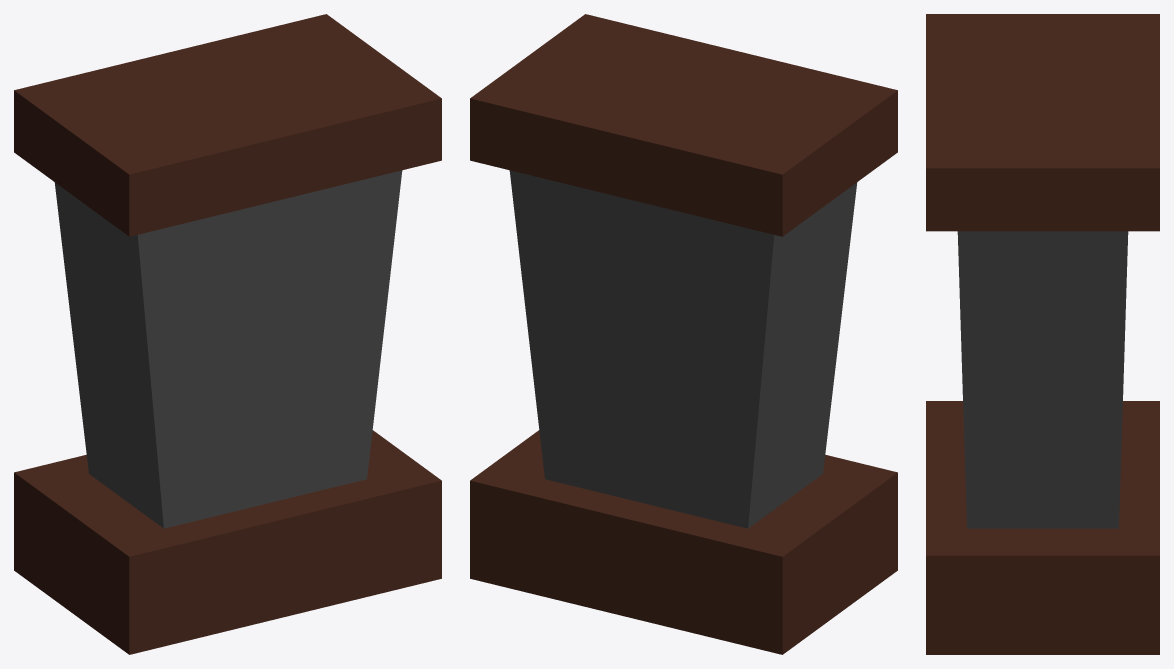
File: SM_Chimenea.fbx
3 views of the same model, side by side, from view 1: azimuth 30°, elevation 25°; view 2: azimuth 150°, elevation 25°; view 3: azimuth 270°, elevation 25° (orthographic).
Parts seen in each view (by area): view 1: SM_Chimenea; view 2: SM_Chimenea; view 3: SM_Chimenea.
Boxes of the visible parts, box(x1,y1,x2,y2) form: SM_Chimenea: box(14, 14, 441, 654); SM_Chimenea: box(470, 14, 897, 654); SM_Chimenea: box(926, 14, 1159, 654).
Bounding box in the file's own units: 63.95 × 147 × 100.
